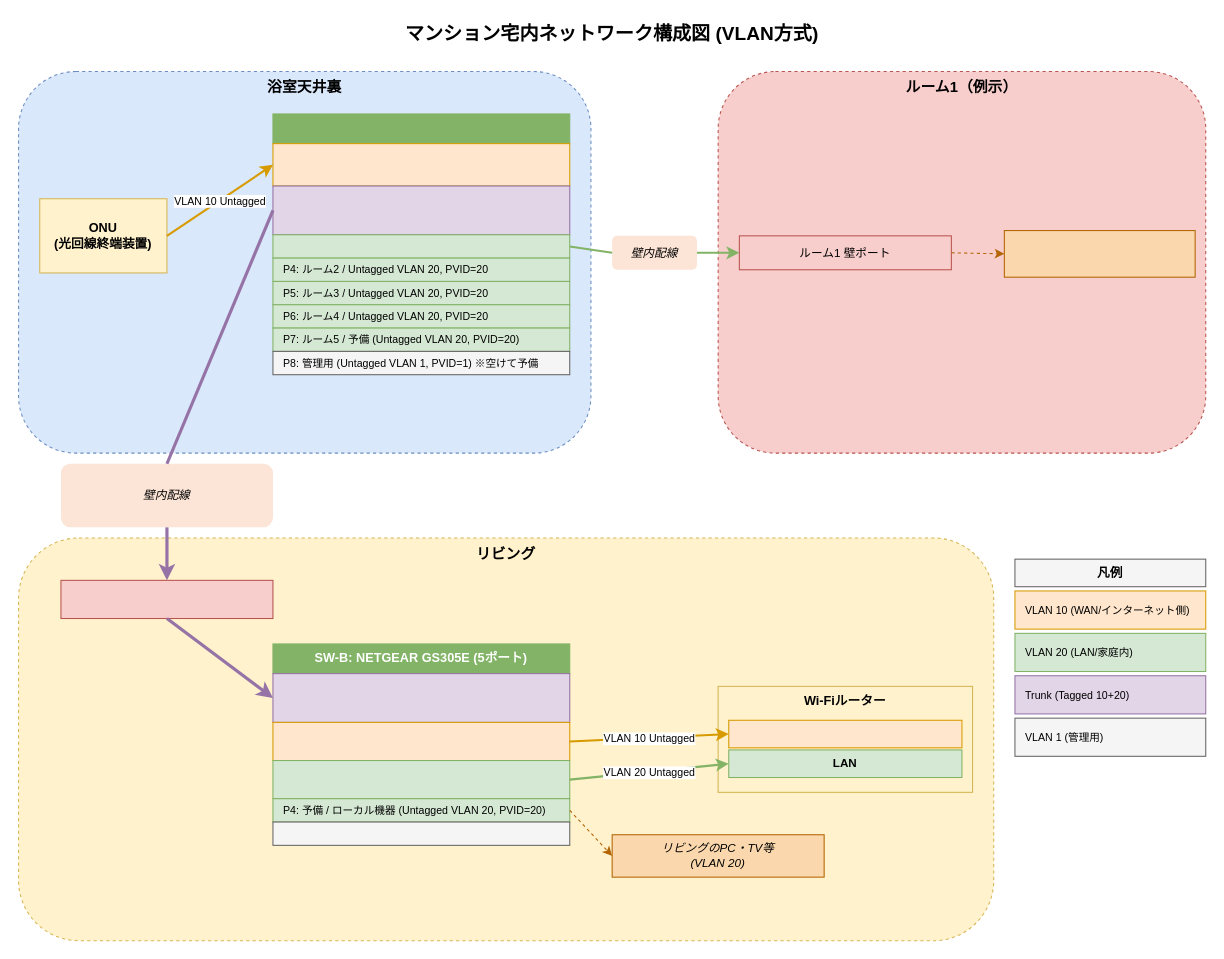
The diagram is 1224 pixels wide and 959 high, and some of its shapes have lost their labels. Here are the shapes that lost their labels. From the top down, the centre of each, then its label:
At pixel 421 128: "SW-A: NETGEAR GS308E (8ポート)".
At pixel 421 164: "P1: ONU Untagged VLAN 10 PVID=10".
At pixel 421 210: "P2: Trunk (リビング行き) Tagged VLAN 10 + 20 Untagged VLAN 1, PVID=1".
At pixel 421 246: "P3: ルーム1 / Untagged VLAN 20, PVID=20".
At pixel 1099 253: "ルーム1のPC・TV等 (VLAN 20)".
At pixel 166 599: "リビング 壁ポート".
At pixel 421 697: "P1: Trunk (浴室から到来) Tagged VLAN 10 + 20 Untagged VLAN 1, PVID=1".
At pixel 421 741: "P2: ルーターWAN Untagged VLAN 10, PVID=10".
At pixel 845 733: "WAN".
At pixel 421 779: "P3: ルーターLAN Untagged VLAN 20, PVID=20".
At pixel 421 833: "P5: 管理用 (Untagged VLAN 1, PVID=1) ※空けて予備".
